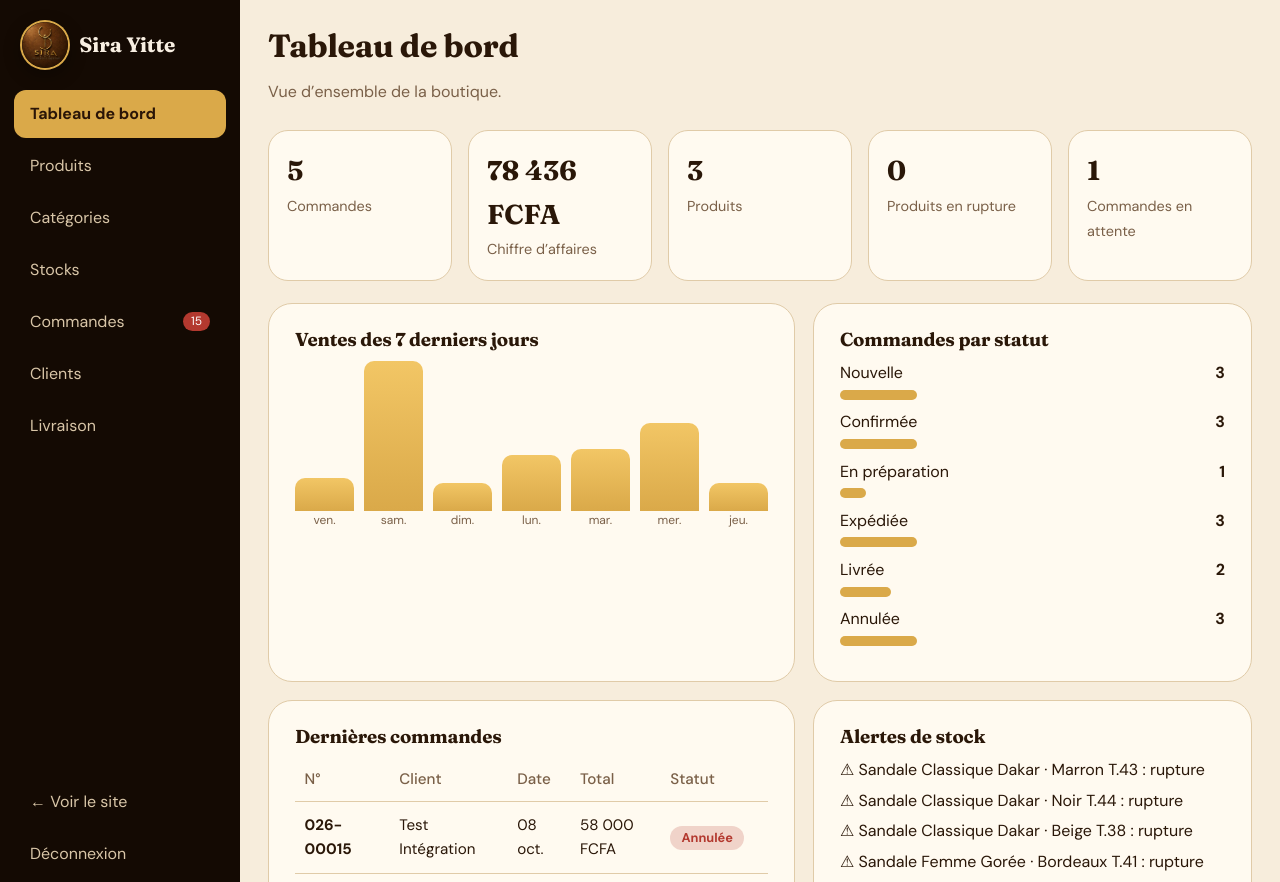
Test: Connexion administrateur › déconnexion : jetons effacés, retour à la connexion
The image size is (1280, 882).
Click the link "Déconnexion": {"x": 78, "y": 854} [30, 843, 126, 864]
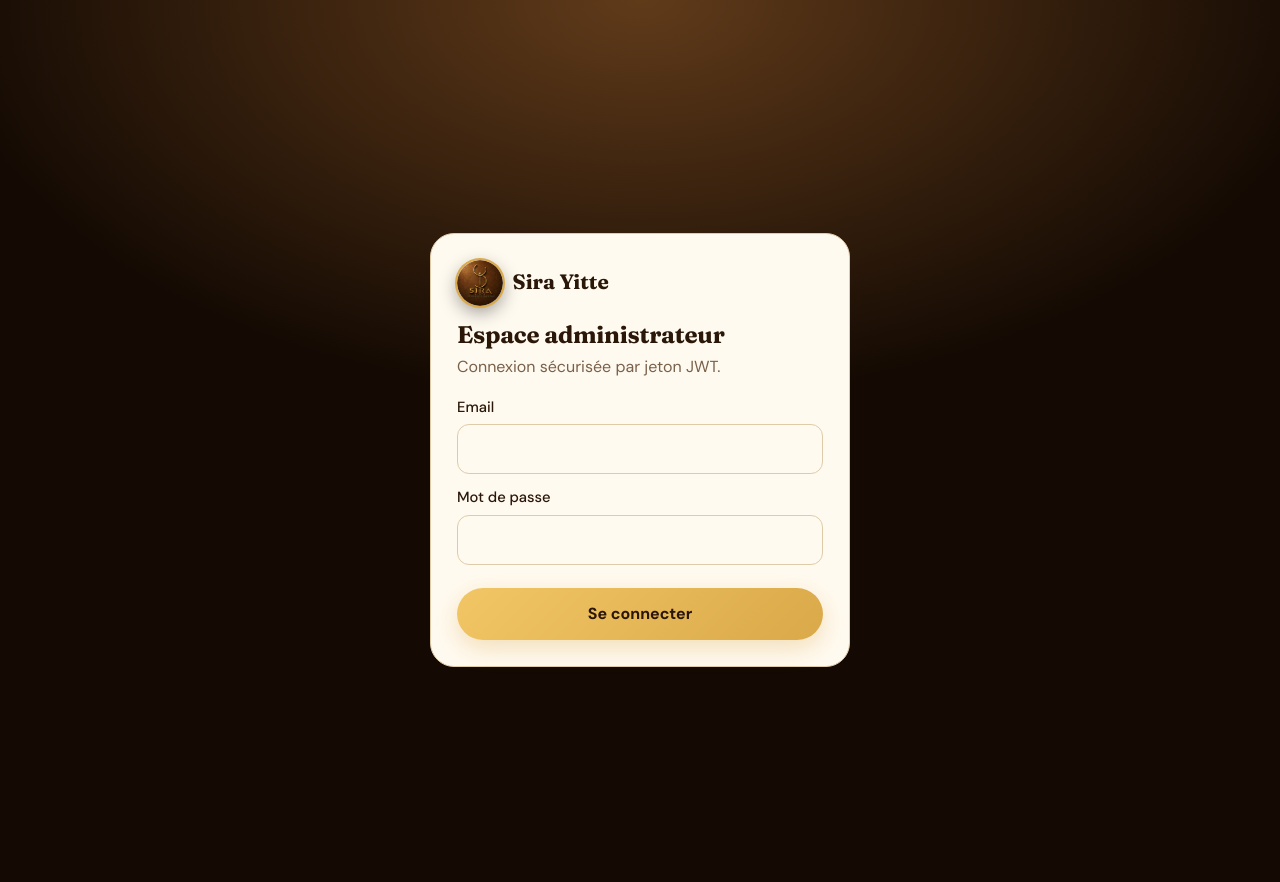
Check: the heading "Espace administrateur" is shown, box [457, 320, 725, 348]
